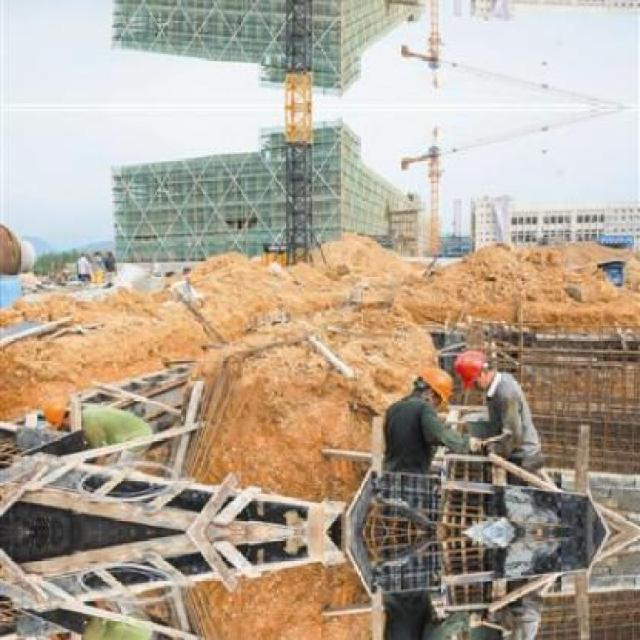helmet: (452, 348, 492, 390), (416, 367, 456, 408)
